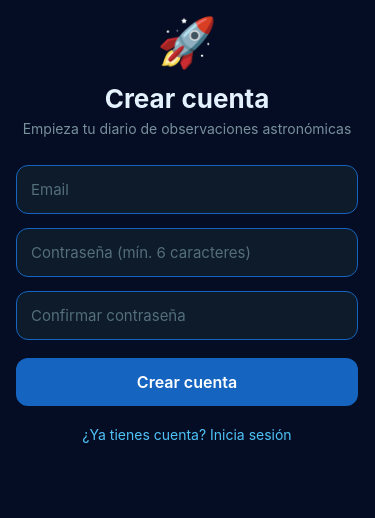
Test case: RegisterScreen › muestra error si las contraseñas no coinciden
In the field with test id "email-input": (187, 190) [16, 165, 358, 214], type "user@cosmos.com"
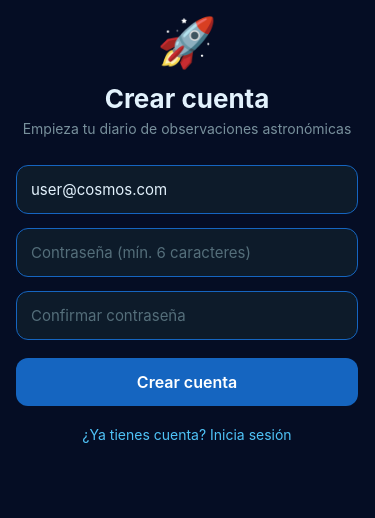
In the password field with test id "password-input": (187, 252) [16, 228, 358, 277], type "abc123"
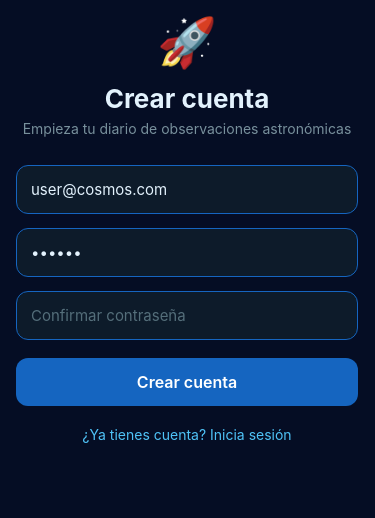
In the password field with test id "confirm-password-input": (187, 316) [16, 291, 358, 340], type "diferente"
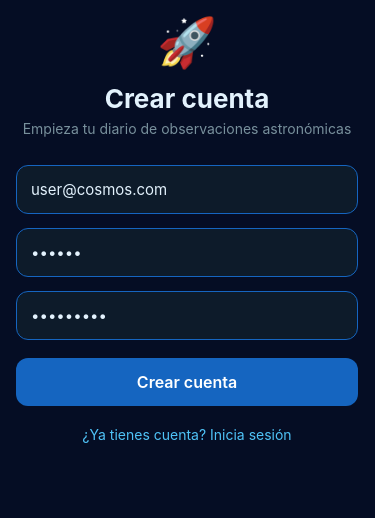
Click the element with test id "register-button": (187, 382) [16, 358, 358, 406]
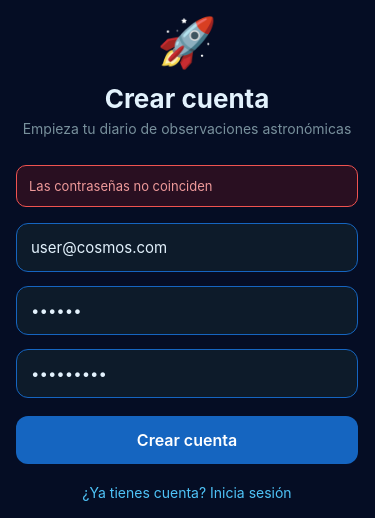
Now the element with test id "error-banner" is shown, box [16, 165, 358, 207]
